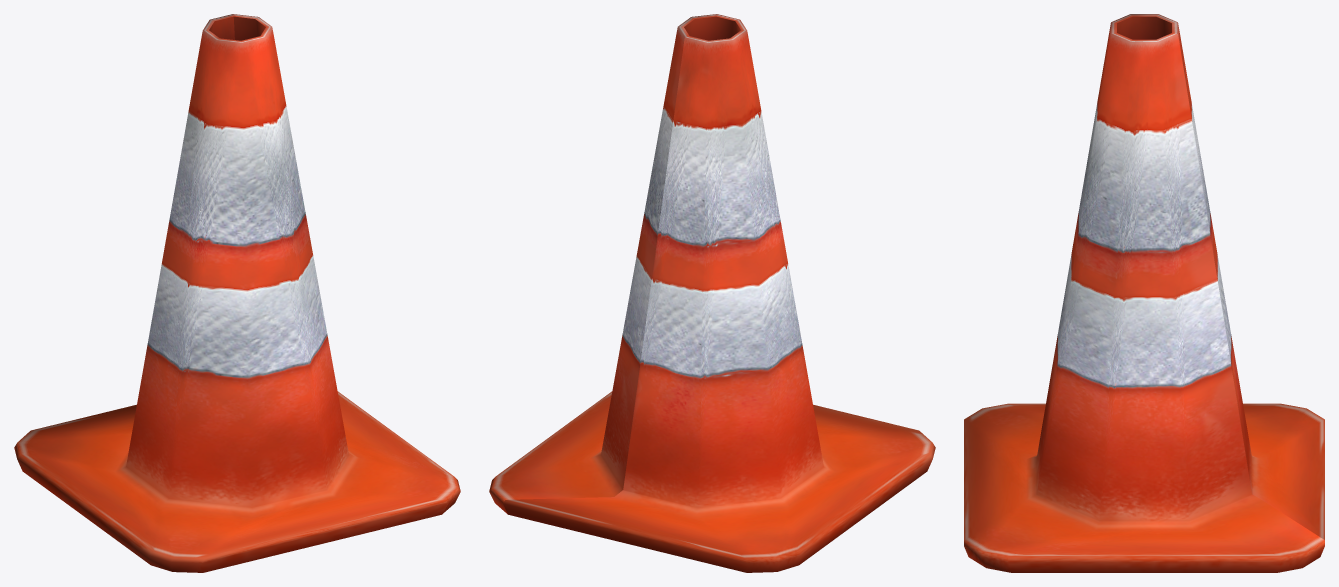
File: OBSTACULO_CONO.FBX
3 renders of one model, left to right at view 1: azimuth 30°, elevation 25°; view 2: azimuth 150°, elevation 25°; view 3: azimuth 270°, elevation 25°, orthographic. The views are drawn at different scales.
Parts seen in each view (by area): view 1: traffic_co; view 2: traffic_co; view 3: traffic_co.
Boxes of the visible parts, x1=… form: traffic_co: x1=14, y1=14, x2=460, y2=572; traffic_co: x1=489, y1=14, x2=935, y2=572; traffic_co: x1=964, y1=14, x2=1324, y2=572.
Bounding box in the file's own units: 660 × 644 × 923.
Materials: 1 (1 with a texture image).
